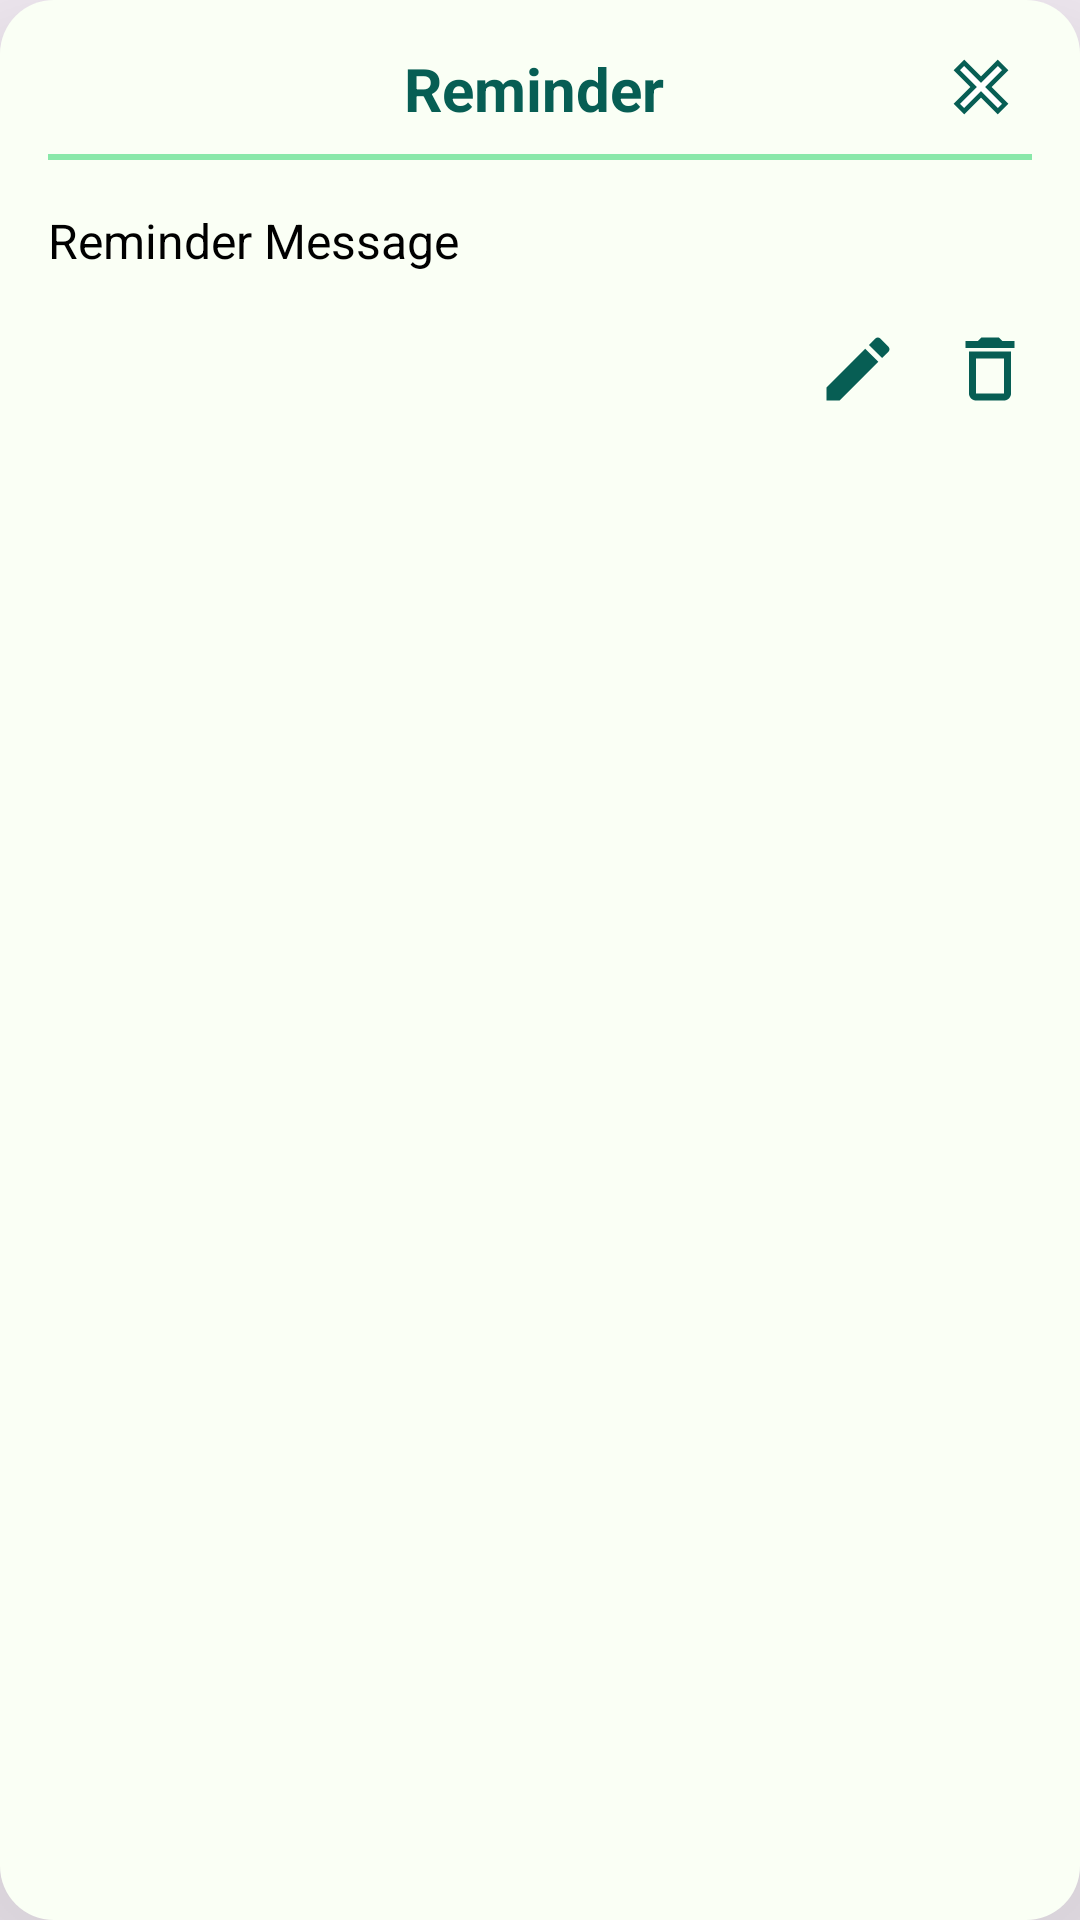

Icon click points for this 1080px x 1920px phone screenshot, format (x=x, y=y):
Delete Reminder: (x=990, y=369)
Edit Reminder: (x=858, y=369)
